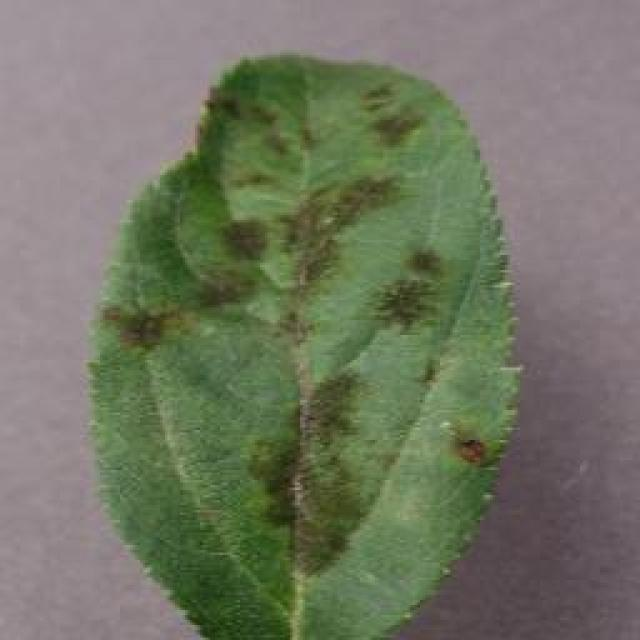App_scab: (194, 70, 461, 344), (252, 362, 380, 608), (101, 290, 190, 376)
